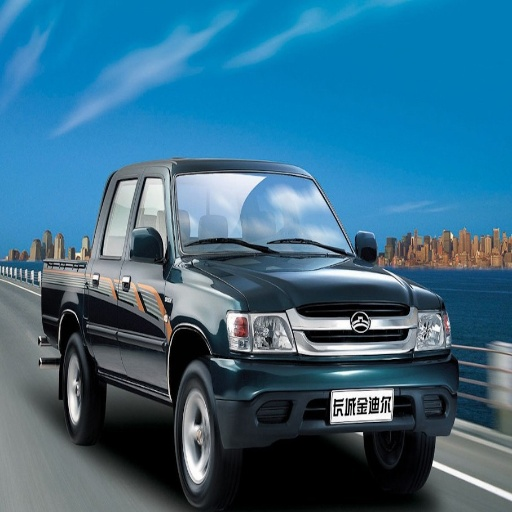front_bumper: (209, 308, 453, 444)
front_left_light: (418, 306, 449, 352)
front_right_door: (117, 172, 171, 389)
front_right_light: (224, 301, 292, 352)
hood: (196, 250, 440, 308)
trunk: (36, 266, 82, 332)
